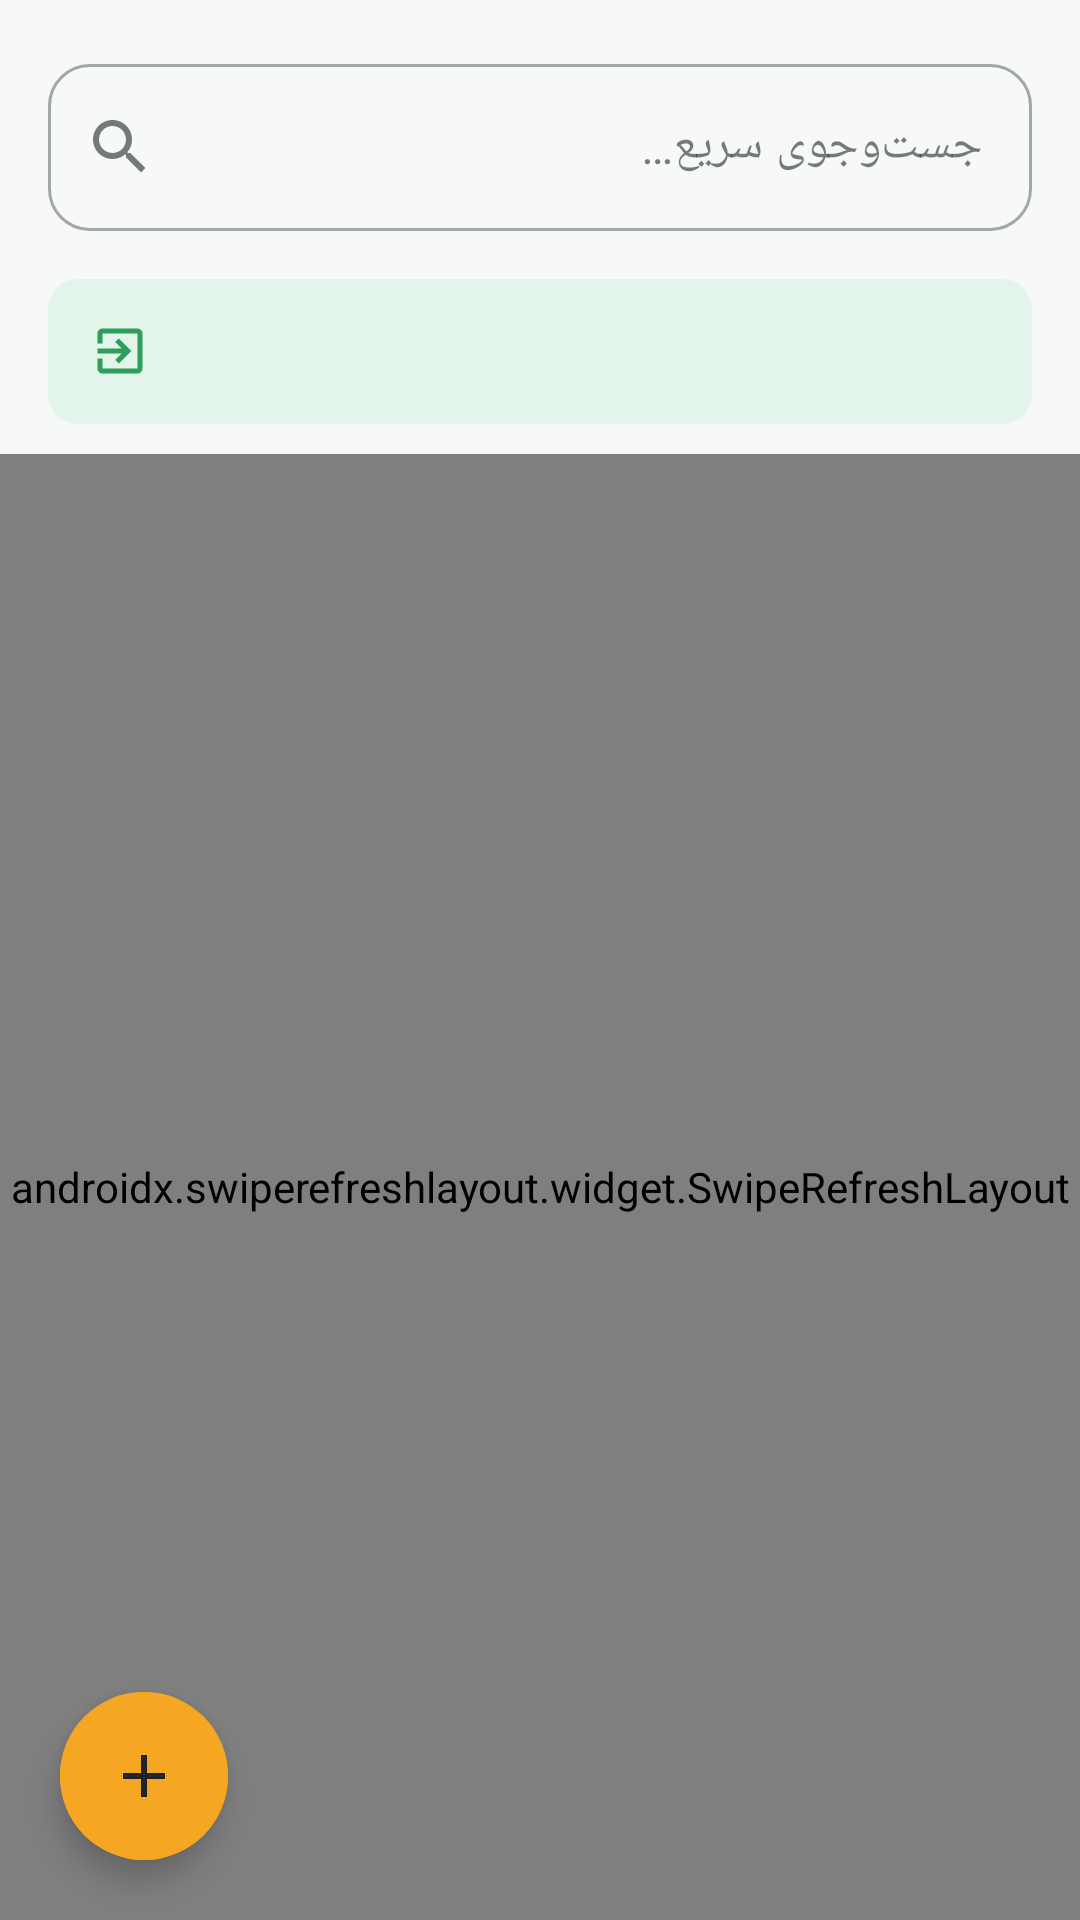

Locate icon controls on the screen. Image size 1080 × 1920, boxes as box(x1, y1, x2, y2).
check in: box(97, 328, 143, 374)
plus: box(60, 1692, 228, 1860)
